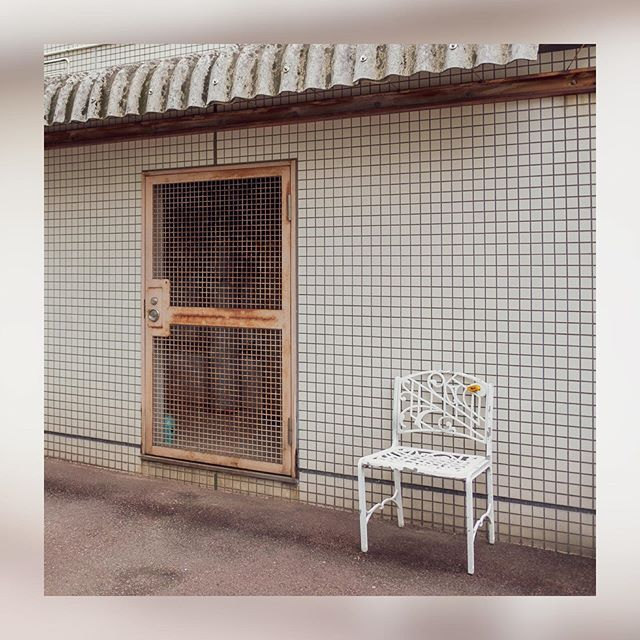chair: (349, 384, 519, 561)
door: (134, 150, 313, 481)
